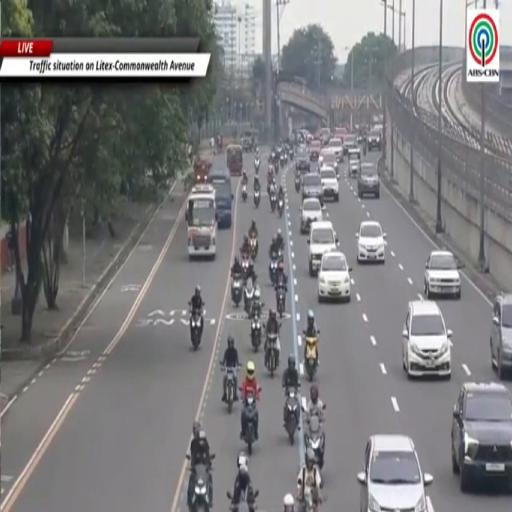bus: (186, 184, 217, 259), (207, 169, 234, 228)
car: (451, 382, 511, 491), (357, 435, 432, 511), (402, 300, 452, 378), (490, 294, 511, 379), (424, 250, 461, 298), (307, 220, 338, 276), (318, 250, 351, 301), (356, 220, 386, 263), (300, 198, 323, 233), (358, 163, 380, 198), (302, 172, 323, 205), (320, 166, 339, 201), (321, 150, 339, 179), (348, 148, 360, 178), (342, 134, 358, 156), (296, 147, 310, 172), (328, 137, 342, 161), (367, 130, 381, 151), (310, 140, 321, 162)
motorcycle: (305, 415, 324, 470), (191, 463, 211, 511), (244, 390, 257, 455), (222, 366, 239, 413), (285, 389, 299, 444), (304, 331, 318, 381), (230, 489, 258, 511), (265, 333, 278, 376), (189, 310, 203, 349), (301, 404, 326, 423), (250, 315, 262, 352), (231, 274, 243, 307), (300, 489, 318, 511), (276, 284, 285, 317), (244, 286, 254, 315), (269, 258, 278, 285), (242, 258, 251, 283), (249, 237, 258, 260), (270, 190, 276, 213), (253, 189, 260, 208), (277, 198, 284, 217), (242, 184, 247, 201), (255, 157, 260, 173), (295, 176, 300, 191), (280, 154, 285, 168), (278, 248, 283, 261), (289, 149, 294, 161), (271, 152, 276, 162)
